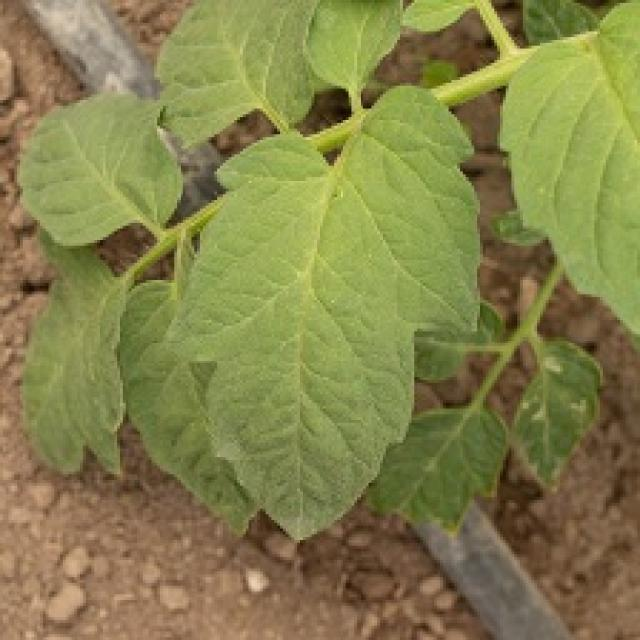Healthy: (125, 45, 532, 567)
